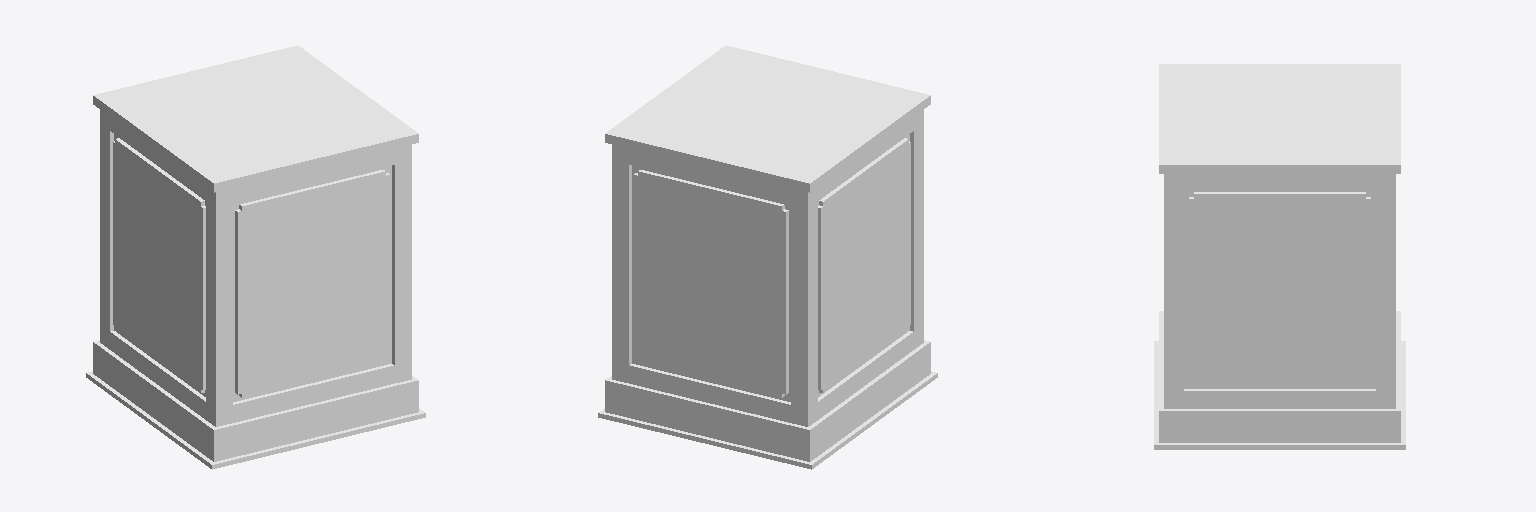
Rendered from pedestal.obj.
The picture shows the model from 3 angles: view 1: azimuth 30°, elevation 25°; view 2: azimuth 150°, elevation 25°; view 3: azimuth 270°, elevation 25°; orthographic projection.
Bounding box in the file's own units: 49 × 62 × 50.